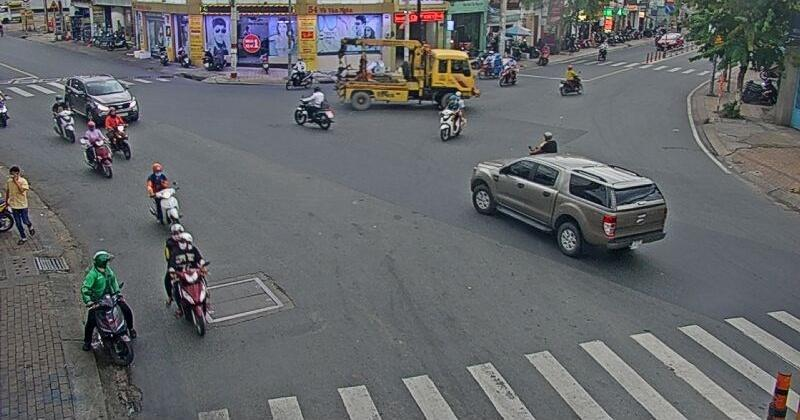xe hoi: (470, 154, 666, 256), (64, 73, 139, 123)
xe may: (83, 251, 137, 367), (161, 225, 207, 336), (146, 163, 183, 224), (81, 120, 112, 179), (294, 87, 334, 130), (104, 106, 130, 159), (439, 91, 466, 141), (51, 94, 75, 144)
xe tai: (334, 37, 475, 107)
